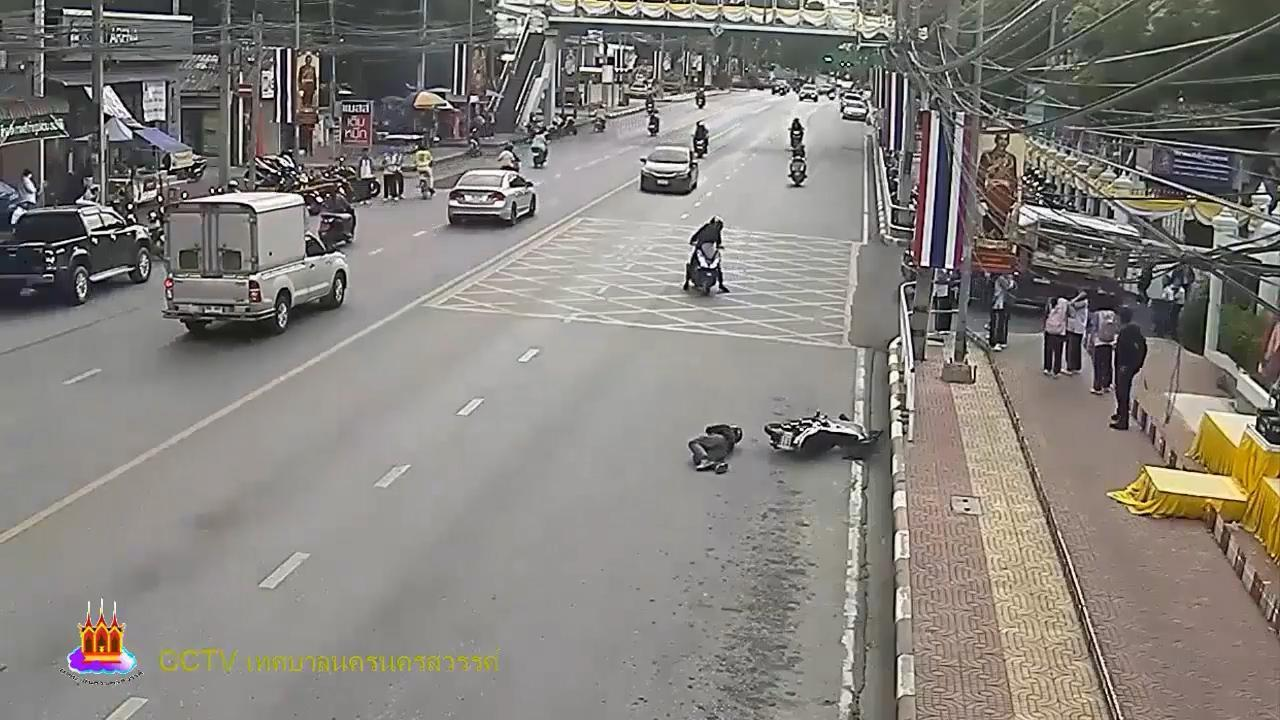accident: (687, 416, 745, 480)
